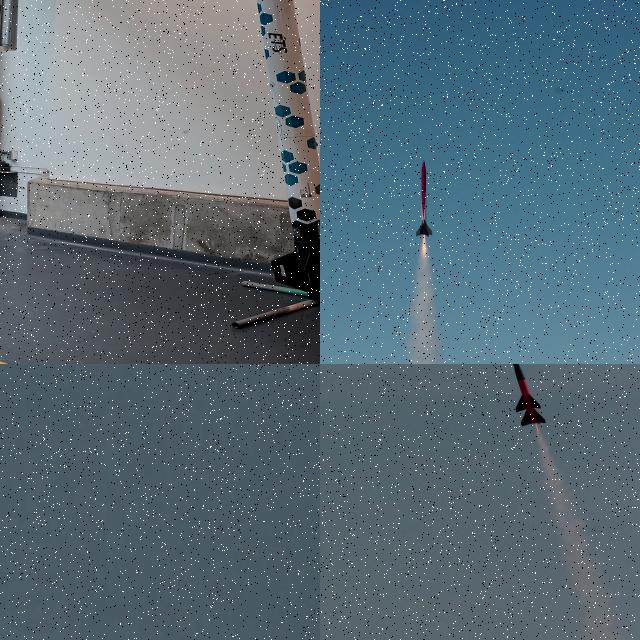Rocket: (256, 0, 320, 300), (513, 364, 547, 426), (414, 160, 434, 238)
